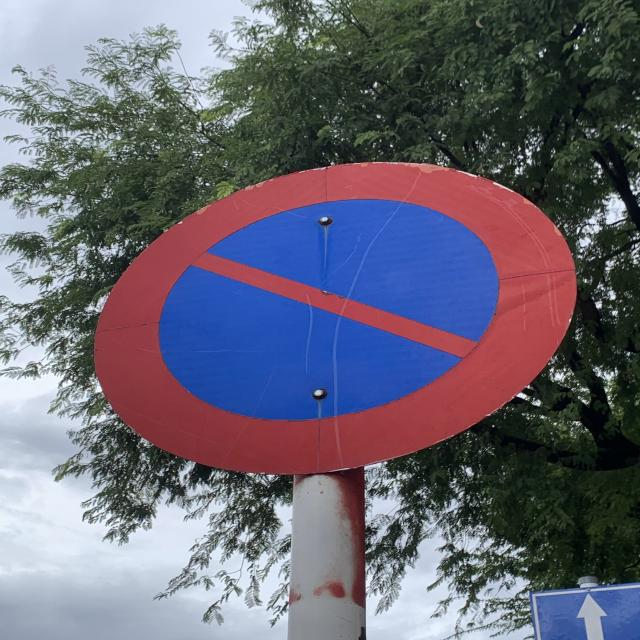Cam_Dau_Xe: (95, 162, 577, 476)
